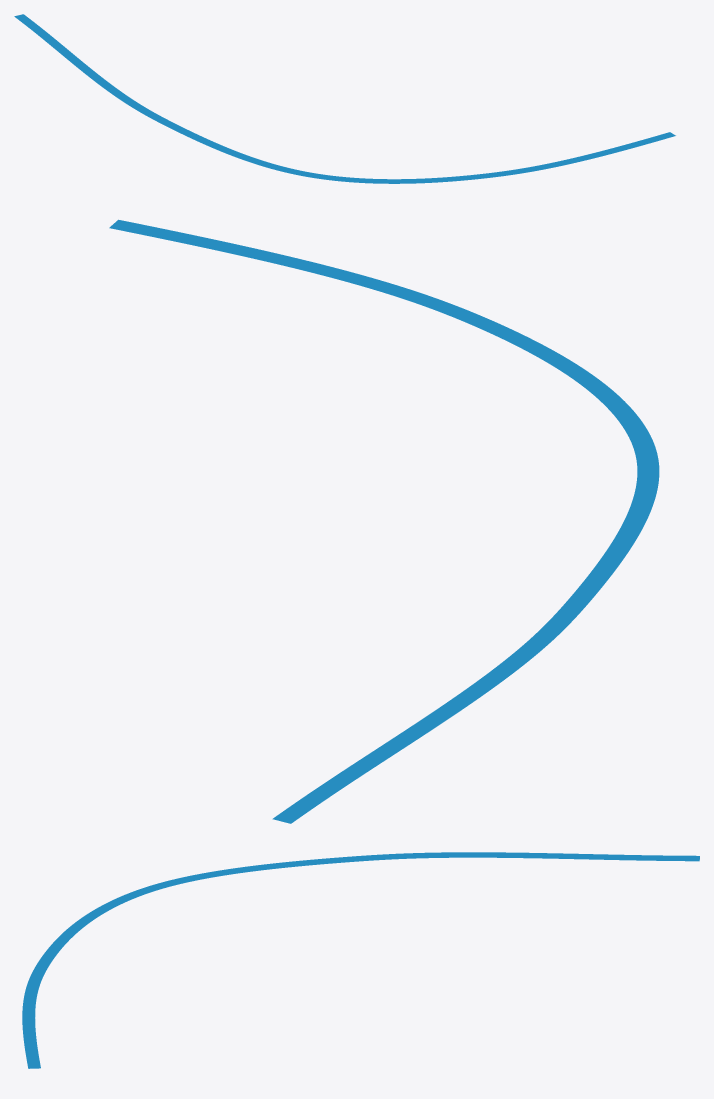
File: guide.glb
3 renders of one model, top to bottom at view 1: azimuth 30°, elevation 25°; view 2: azimuth 150°, elevation 25°; view 3: azimuth 270°, elevation 25°, orthographic. The views are drawn at different scales.
Visible parts, largest first — view 1: static; view 2: static; view 3: static.
Part boxes in pixels (bbox=[...]): static: bbox=[14, 14, 675, 183]; static: bbox=[109, 219, 659, 823]; static: bbox=[22, 852, 699, 1068].
Size of the model in its own units: 13.71 by 0 by 17.1.
